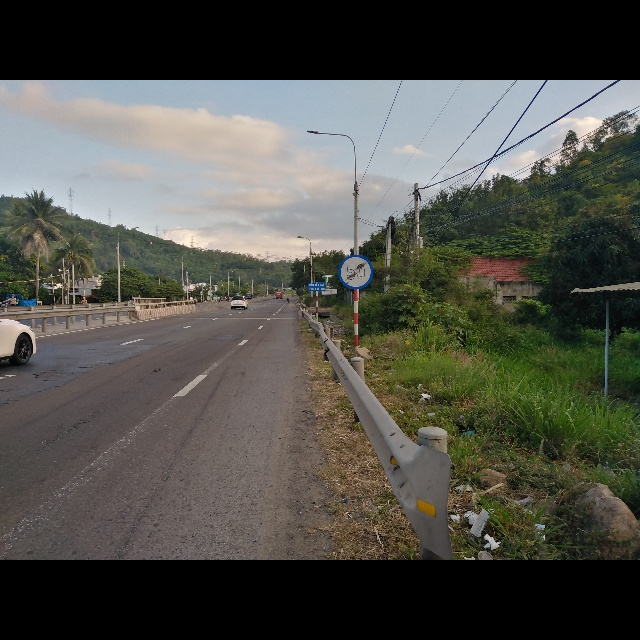Hết hạn chế tốc độ tối đa 50km/h: (338, 255, 374, 290)
